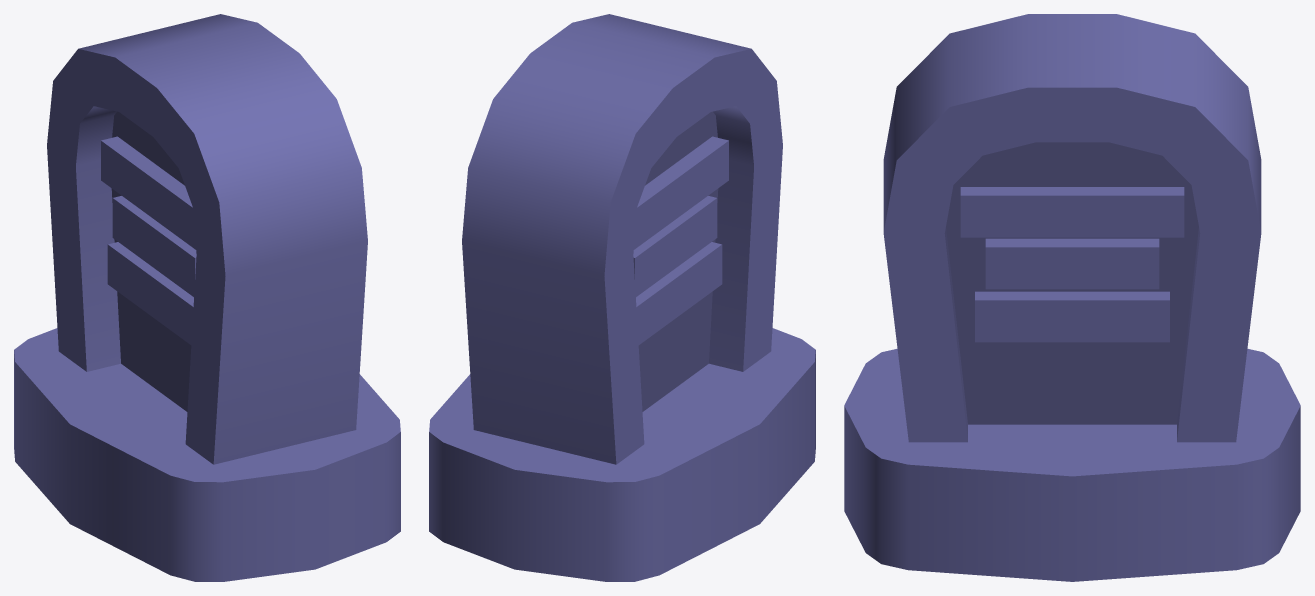
The model's file is Gravestone.fbx.
3 views of the same model, side by side, from view 1: azimuth 30°, elevation 25°; view 2: azimuth 150°, elevation 25°; view 3: azimuth 270°, elevation 25° (orthographic). The views are drawn at different scales.
Visible parts, largest first — view 1: Gravestone; view 2: Gravestone; view 3: Gravestone.
Part boxes in pixels (<box>): Gravestone: <box>14,14,400,581</box>; Gravestone: <box>429,14,815,581</box>; Gravestone: <box>844,14,1300,581</box>.
Bounding box in the file's own units: 144 × 218 × 196.
